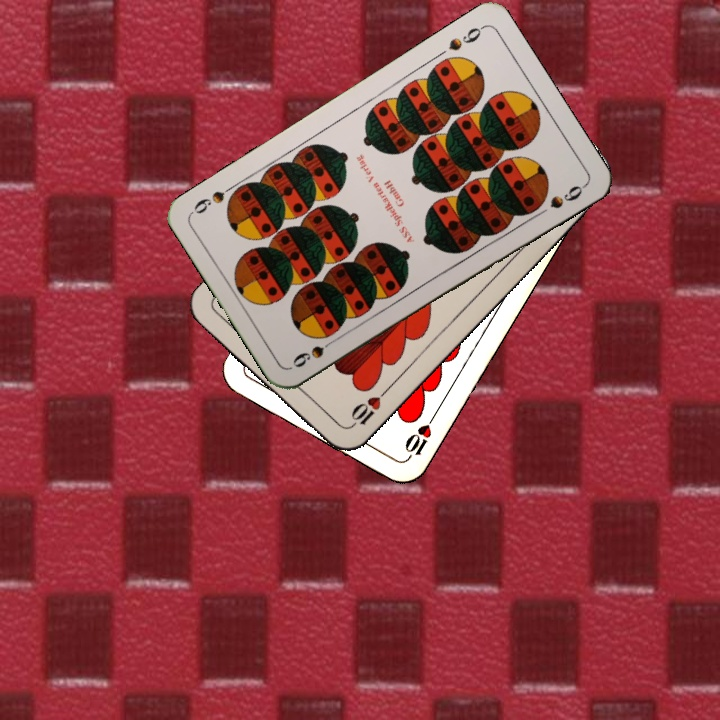H10: (345, 384, 391, 431), (400, 411, 438, 464)
S9: (288, 333, 341, 370), (444, 21, 487, 54)
